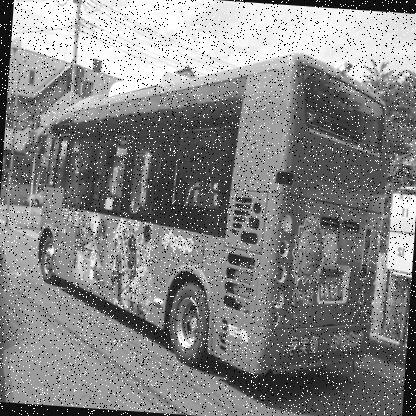Car: (22, 185, 44, 207)
